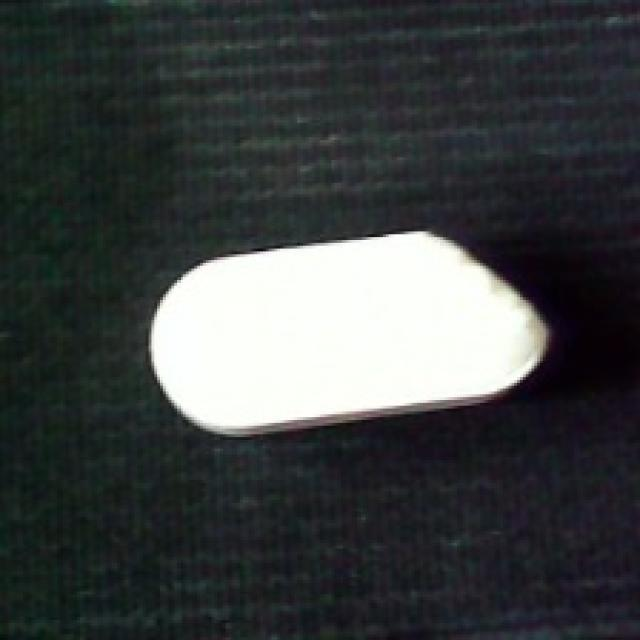defected: (140, 234, 551, 440)
